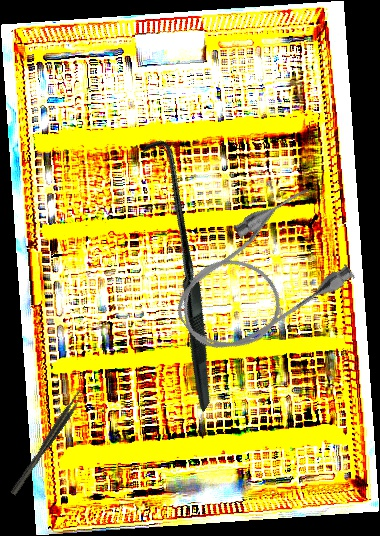Cannula: (154, 178, 365, 374)
Hook Surgical: (41, 134, 315, 414)
Tissue Forceps: (7, 388, 87, 496)
